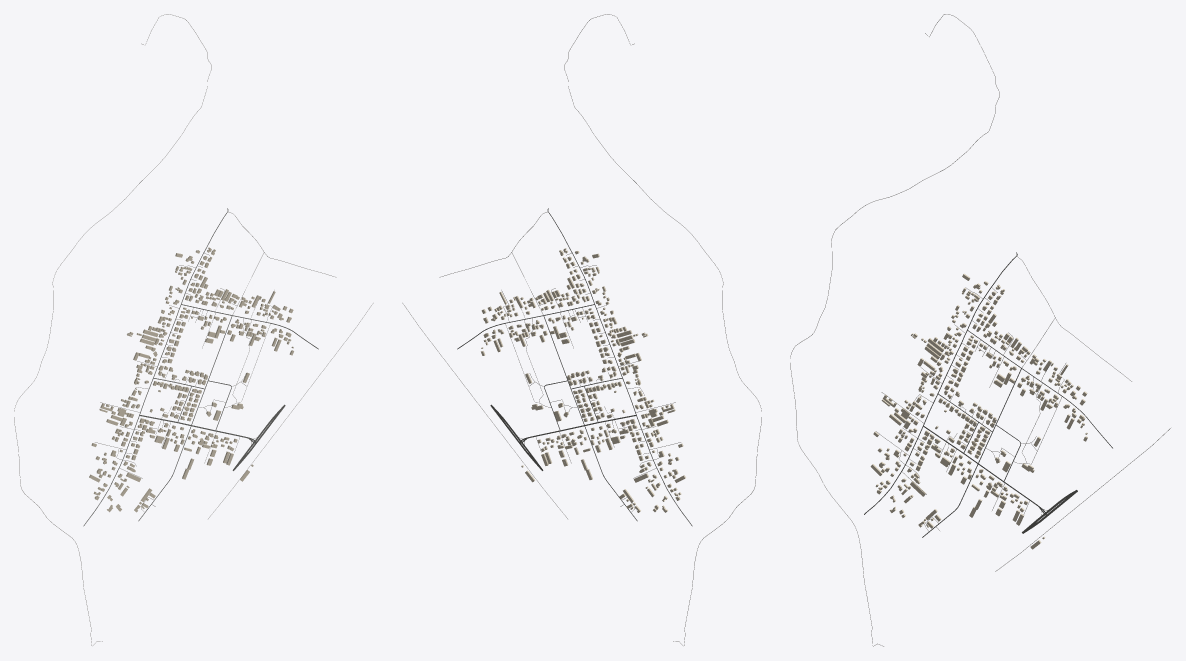
File: historic-palestine-06_24_3476_3188.glb
The picture shows the model from 3 angles, left to right: view 1: azimuth 30°, elevation 25°; view 2: azimuth 150°, elevation 25°; view 3: azimuth 330°, elevation 25°; orthographic projection. The views are drawn at different scales.
Visible parts, largest first — view 1: Road .055; view 2: Road .055; view 3: Road .055.
Boxes of the visible parts, left/top/right/bottom form: Road .055: left=14, top=14, right=211, bottom=645; Road .055: left=564, top=14, right=761, bottom=645; Road .055: left=790, top=14, right=999, bottom=646.
Bounding box in the file's own units: 1693 × 2765 × 8.7.
